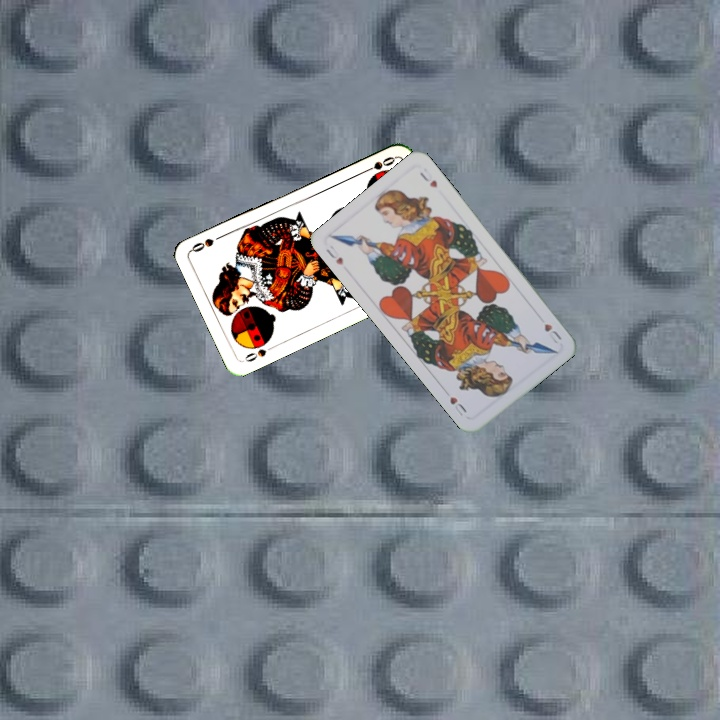HU: (540, 319, 564, 346), (322, 245, 346, 268)
SO: (359, 152, 398, 176), (241, 342, 278, 365)
